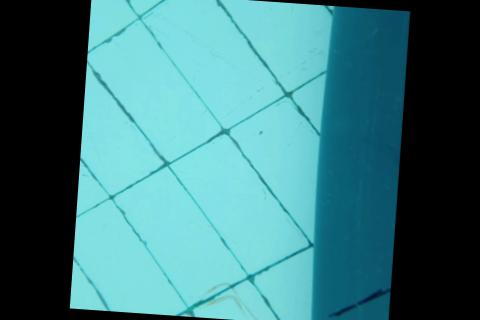keretakan: (326, 284, 391, 320)
